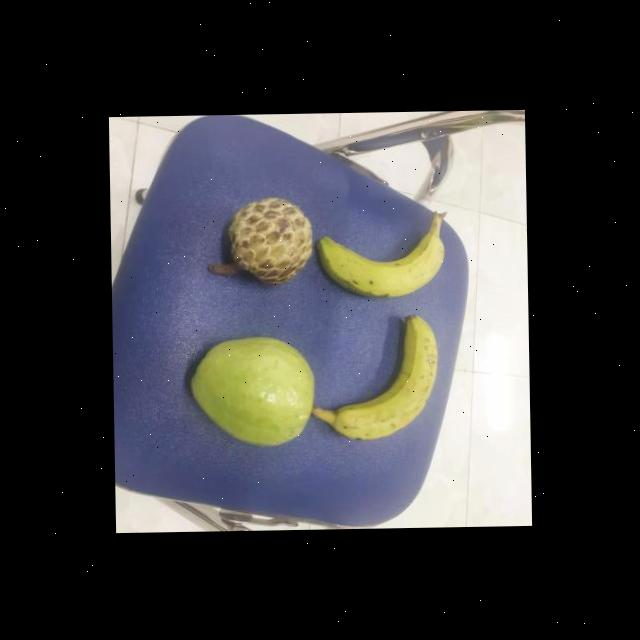Sakya fruit: (227, 193, 316, 284)
banana: (320, 311, 441, 444), (318, 210, 452, 300)
guava: (187, 328, 320, 450)
